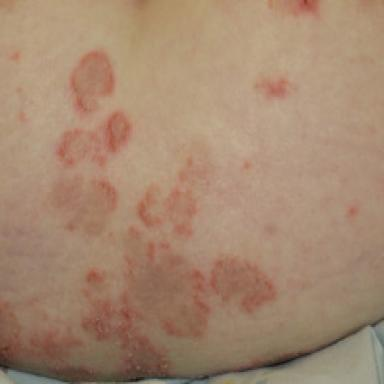eczema: (83, 227, 209, 377), (0, 301, 96, 380), (137, 158, 197, 236), (56, 111, 130, 167), (53, 177, 115, 234), (211, 260, 275, 313), (71, 52, 113, 113), (254, 77, 292, 98), (286, 0, 319, 15), (86, 268, 103, 284)
